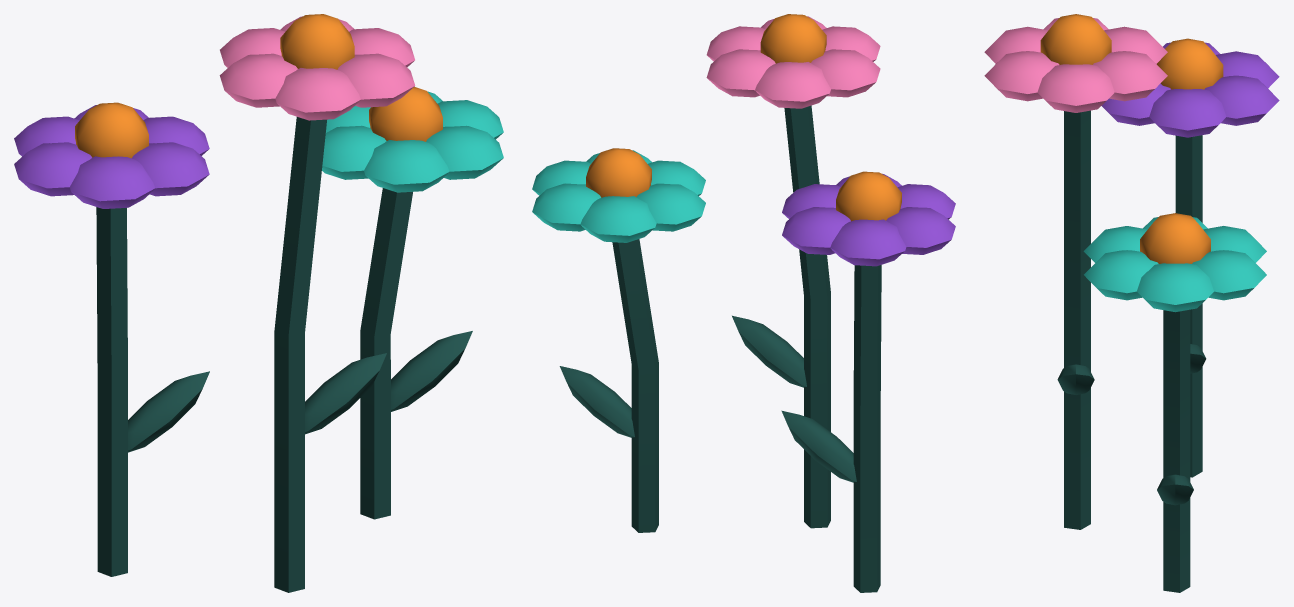
Rendered from Candy_Flower.fbx.
The picture shows the model from 3 angles, left to right: view 1: azimuth 30°, elevation 25°; view 2: azimuth 150°, elevation 25°; view 3: azimuth 270°, elevation 25°; orthographic projection. The views are drawn at different scales.
Parts seen in each view (by area): view 1: Candy_Flower_Petals, Candy_Flower_Stems; view 2: Candy_Flower_Petals, Candy_Flower_Stems; view 3: Candy_Flower_Petals, Candy_Flower_Stems.
Part boxes in pixels (bbox=[...]): Candy_Flower_Petals: bbox=[14, 14, 503, 208]; Candy_Flower_Stems: bbox=[96, 117, 472, 592]; Candy_Flower_Petals: bbox=[532, 14, 955, 266]; Candy_Flower_Stems: bbox=[559, 105, 881, 592]; Candy_Flower_Petals: bbox=[984, 14, 1279, 312]; Candy_Flower_Stems: bbox=[1057, 110, 1206, 592].
Bounding box in the file's own units: 0.407 × 0.462 × 0.2379.
